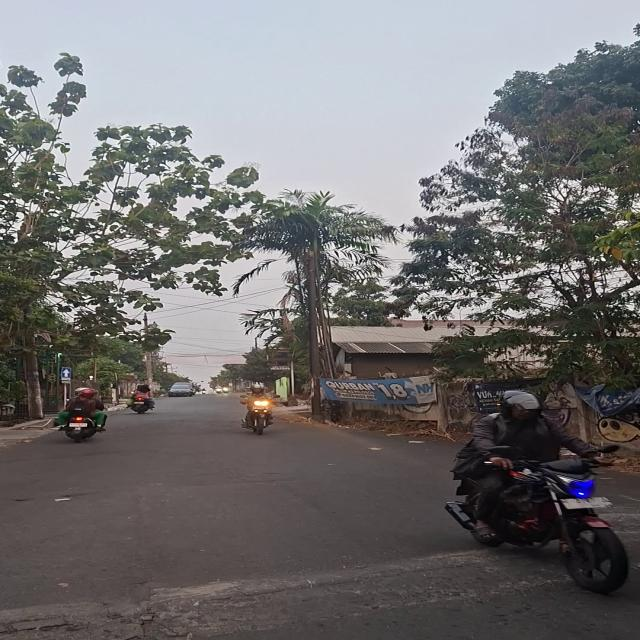WithHelmet: (452, 390, 616, 539), (54, 388, 109, 432), (238, 384, 282, 429)
WithoutHelmet: (128, 384, 157, 415)
